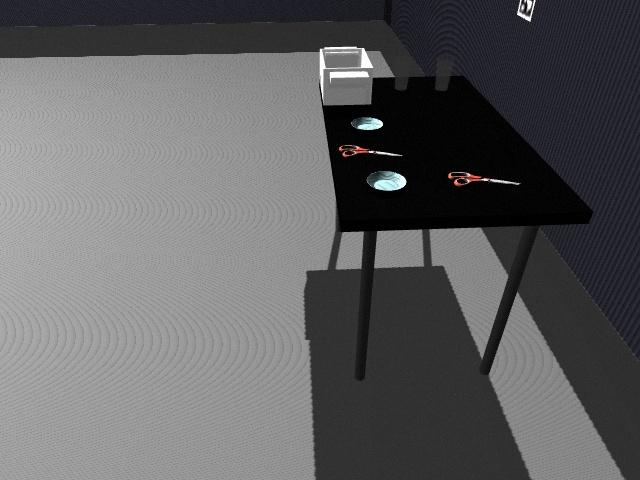cup: (434, 58, 454, 91), (393, 71, 409, 92)
plate: (365, 169, 410, 192), (351, 117, 385, 131)
scissors: (448, 169, 521, 187), (339, 143, 402, 158)
